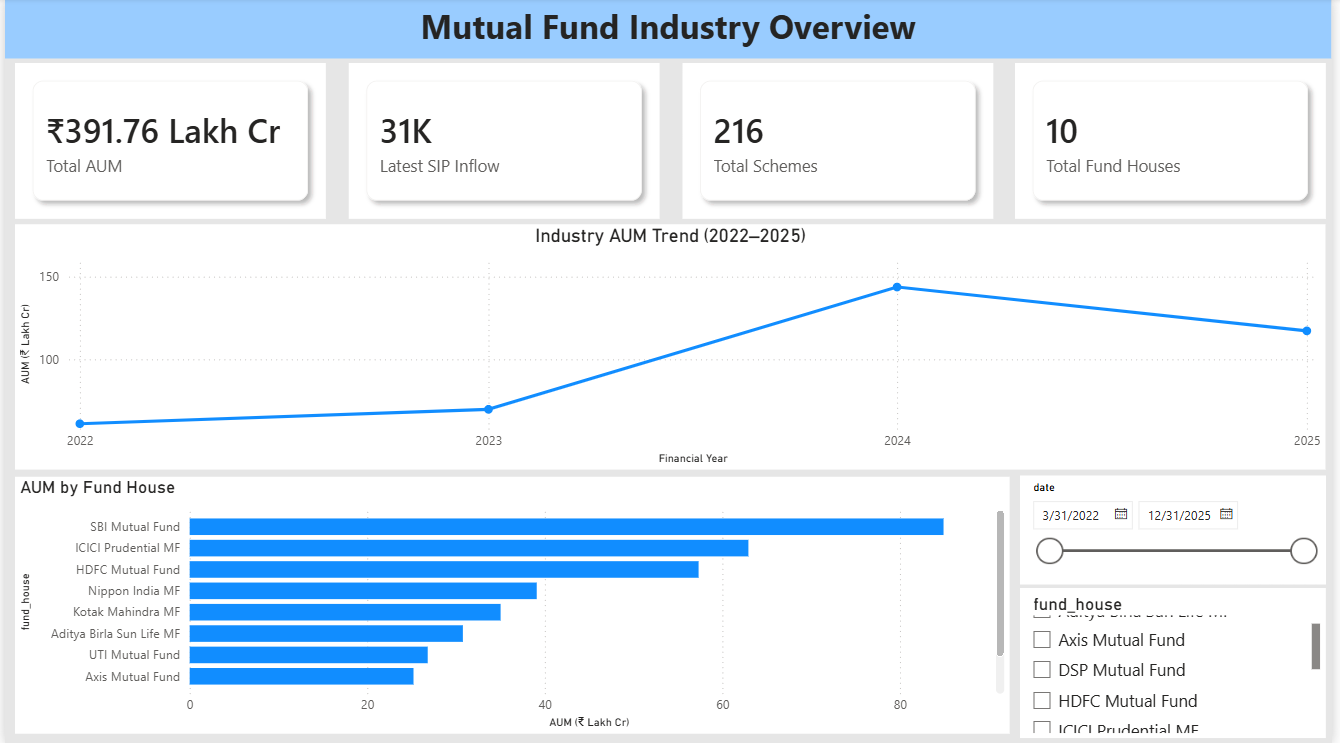

The dashboard page shown, as its layout file describes it:
{"tool":"powerbi","page":{"name":"Page 1","canvas":[1280,720],"ordinal":0},"visuals":[{"type":"cardVisual","fields":{"Data":["01_fund_master_clean.Total AUM"]},"box":[10,63,300,150],"z":0},{"type":"lineChart","title":"Industry AUM Trend (2022–2025)","fields":{"Category":["03_aum_by_fund_house_clean.date.Variation.Date Hierarchy.Year","03_aum_by_fund_house_clean.date.Variation.Date Hierarchy.Quarter","03_aum_by_fund_house_clean.date.Variation.Date Hierarchy.Month","03_aum_by_fund_house_clean.date.Variation.Date Hierarchy.Day"],"Y":["Sum(03_aum_by_fund_house_clean.aum_lakh_crore)"]},"box":[10,218.3,1265,236.7],"z":1000},{"type":"textbox","box":[0,0,1280.3,58.7],"z":2000},{"type":"slicer","fields":{"Values":["03_aum_by_fund_house_clean.date"]},"box":[980,461,294.8,105.1],"z":3000},{"type":"slicer","fields":{"Values":["03_aum_by_fund_house_clean.fund_house"]},"box":[980,570,294.8,144.7],"z":4000},{"type":"clusteredBarChart","title":"AUM by Fund House","fields":{"Category":["03_aum_by_fund_house_clean.fund_house"],"Y":["Sum(03_aum_by_fund_house_clean.aum_lakh_crore)"]},"box":[10,461.7,960,248.3],"z":5000},{"type":"cardVisual","fields":{"Data":["01_fund_master_clean.Latest SIP Inflow"]},"box":[331.7,63,300,150],"z":6000},{"type":"cardVisual","fields":{"Data":["01_fund_master_clean.Total Schemes"]},"box":[653.3,63,300,150],"z":7000},{"type":"cardVisual","fields":{"Data":["01_fund_master_clean.Total Fund Houses"]},"box":[975,63,300,150],"z":8000}]}

Visuals, with their boxes in screenshot pixels (x1, y1, x2, y2), scaled from the page's 1280x720 canvas onto the 1340x743 screenshot:
cardVisual - 01_fund_master_clean.Total AUM: (10,65,325,220)
"Industry AUM Trend (2022–2025)" lineChart: (10,225,1335,470)
textbox: (0,0,1339,61)
slicer - 03_aum_by_fund_house_clean.date: (1026,476,1335,584)
slicer - 03_aum_by_fund_house_clean.fund_house: (1026,588,1335,738)
"AUM by Fund House" clusteredBarChart: (10,476,1015,733)
cardVisual - 01_fund_master_clean.Latest SIP Inflow: (347,65,661,220)
cardVisual - 01_fund_master_clean.Total Schemes: (684,65,998,220)
cardVisual - 01_fund_master_clean.Total Fund Houses: (1021,65,1335,220)
